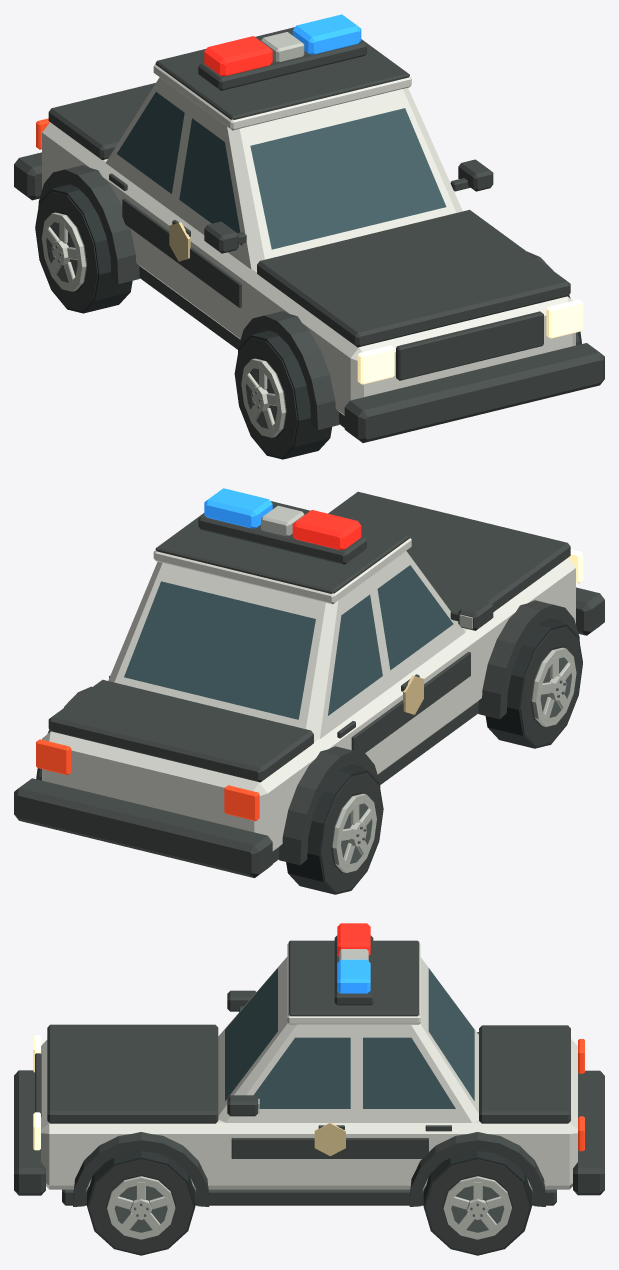
Rendered from interceptor.gltf.
3 views of the same model, one above another, from view 1: azimuth 30°, elevation 25°; view 2: azimuth 150°, elevation 25°; view 3: azimuth 270°, elevation 25° (orthographic). The views are drawn at different scales.
Visible parts, largest first — view 1: Черный капот, Лобовое стекло — наклонная плоскость, Основной кузов, Стойки и рамки окон, Передний бампер, Черная крыша, Расширитель арки (×2), Шина (×2), Боковины (×2), Решетка, Левое переднее стекло, Черный багажник (+14 smaller); view 2: Основной кузов, Заднее стекло — наклонная плоскость, Черный багажник, Стойки и рамки окон, Черный капот, Задний бампер, Расширитель арки (×2), Черная крыша, Шина (×2), Боковины (×2), Левое переднее стекло, Левое заднее стекло (+13 smaller); view 3: Основной кузов, Черный капот, Стойки и рамки окон, Черный багажник, Боковины (×2), Черная крыша, Расширитель арки (×2), Правое переднее стекло, Правое заднее стекло, Подрамник, Шина (×2), Полицейская полоса (+12 smaller).
Part boxes in pixels (left/top/right/bottom): Черный капот: left=257, top=209, right=570, bottom=347; Лобовое стекло — наклонная плоскость: left=250, top=108, right=446, bottom=249; Основной кузов: left=42, top=122, right=575, bottom=415; Стойки и рамки окон: left=106, top=77, right=462, bottom=270; Передний бампер: left=344, top=343, right=604, bottom=442; Черная крыша: left=155, top=27, right=409, bottom=119; Расширитель арки (×2): left=38, top=165, right=339, bottom=429; Шина (×2): left=35, top=184, right=331, bottom=459; Боковины (×2): left=36, top=191, right=297, bottom=457; Решетка: left=396, top=311, right=543, bottom=380; Левое переднее стекло: left=179, top=118, right=242, bottom=245; Черный багажник: left=48, top=83, right=155, bottom=159; Основной кузов: left=42, top=558, right=575, bottom=851; Заднее стекло — наклонная плоскость: left=124, top=581, right=315, bottom=719; Черный багажник: left=48, top=679, right=313, bottom=782; Стойки и рамки окон: left=108, top=551, right=465, bottom=739; Черный капот: left=328, top=491, right=570, bottom=611; Задний бампер: left=14, top=778, right=272, bottom=877; Расширитель арки (×2): left=279, top=600, right=579, bottom=865; Черная крыша: left=155, top=501, right=409, bottom=593; Шина (×2): left=286, top=619, right=582, bottom=894; Боковины (×2): left=320, top=626, right=582, bottom=892; Левое переднее стекло: left=377, top=565, right=453, bottom=670; Левое заднее стекло: left=328, top=594, right=382, bottom=715; Основной кузов: left=41, top=1039, right=577, bottom=1189; Черный капот: left=47, top=1024, right=218, bottom=1123; Стойки и рамки окон: left=218, top=957, right=478, bottom=1122; Черный багажник: left=479, top=1025, right=570, bottom=1123; Боковины (×2): left=89, top=1159, right=529, bottom=1253; Черная крыша: left=288, top=940, right=419, bottom=1016; Расширитель арки (×2): left=73, top=1132, right=545, bottom=1206; Правое переднее стекло: left=254, top=1037, right=350, bottom=1108; Правое заднее стекло: left=363, top=1037, right=455, bottom=1108; Подрамник: left=62, top=1189, right=556, bottom=1205; Шина (×2): left=87, top=1150, right=531, bottom=1255; Полицейская полоса: left=231, top=1138, right=428, bottom=1158.
Size of the model in its own units: 2.14 by 1.95 by 4.25.
